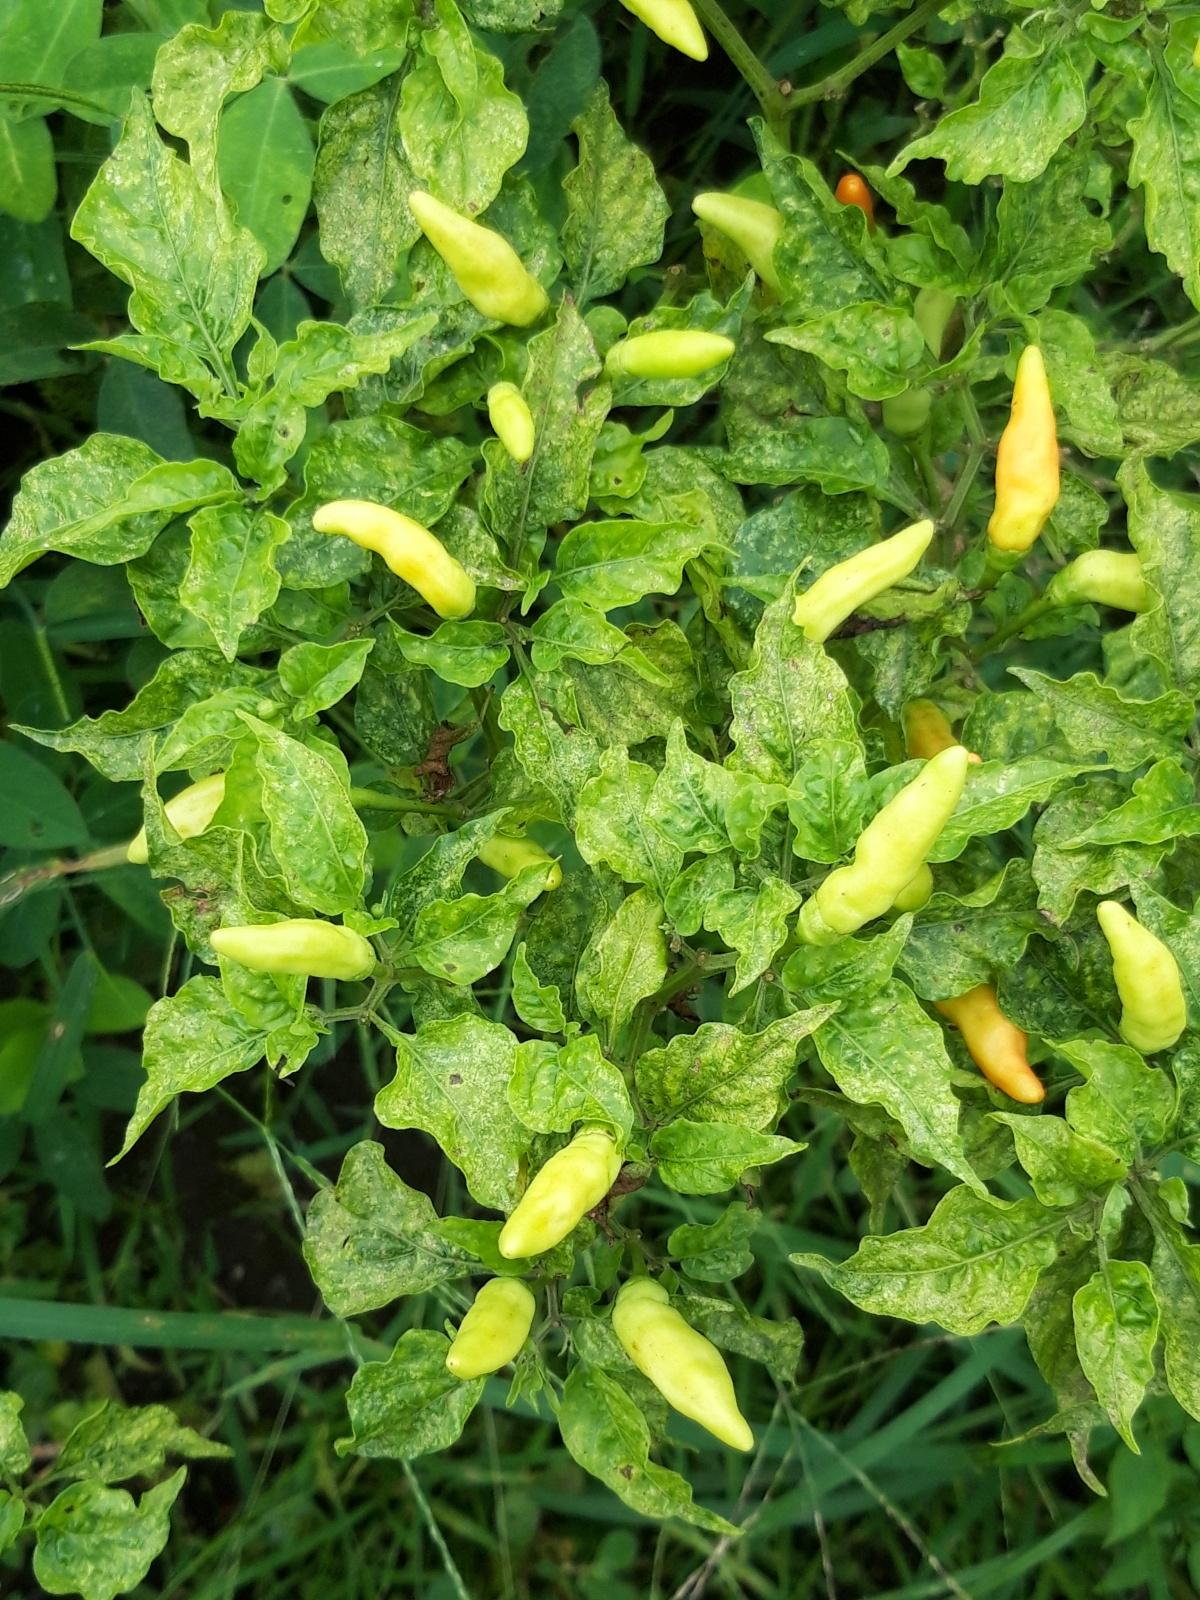cabai_normal: (811, 745, 969, 941), (611, 1281, 754, 1454), (407, 190, 548, 325), (314, 499, 475, 616), (792, 519, 933, 637), (498, 1129, 619, 1259), (987, 344, 1060, 552), (1097, 897, 1186, 1049), (939, 980, 1047, 1105), (207, 917, 374, 984), (447, 1277, 534, 1381), (691, 194, 787, 287), (615, 328, 735, 380), (619, 0, 707, 63), (1068, 548, 1150, 612), (487, 382, 534, 462)
